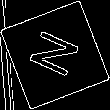N_SE: (24, 27, 86, 83)
